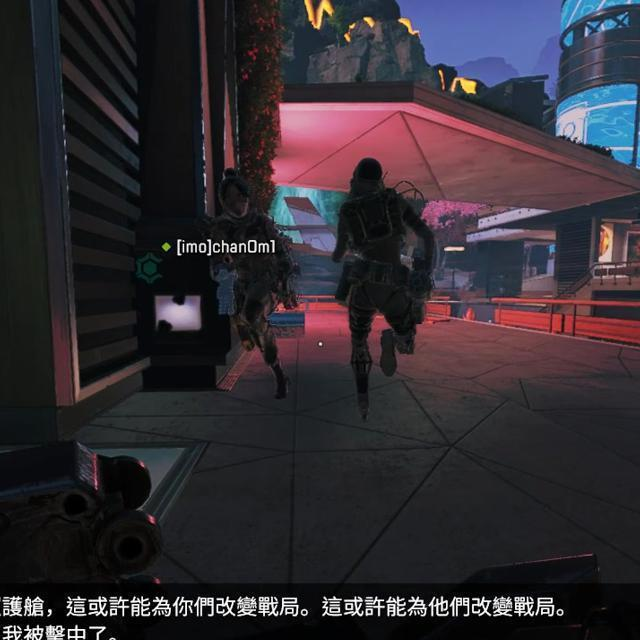avatar: (328, 155, 439, 424), (207, 166, 298, 403)
